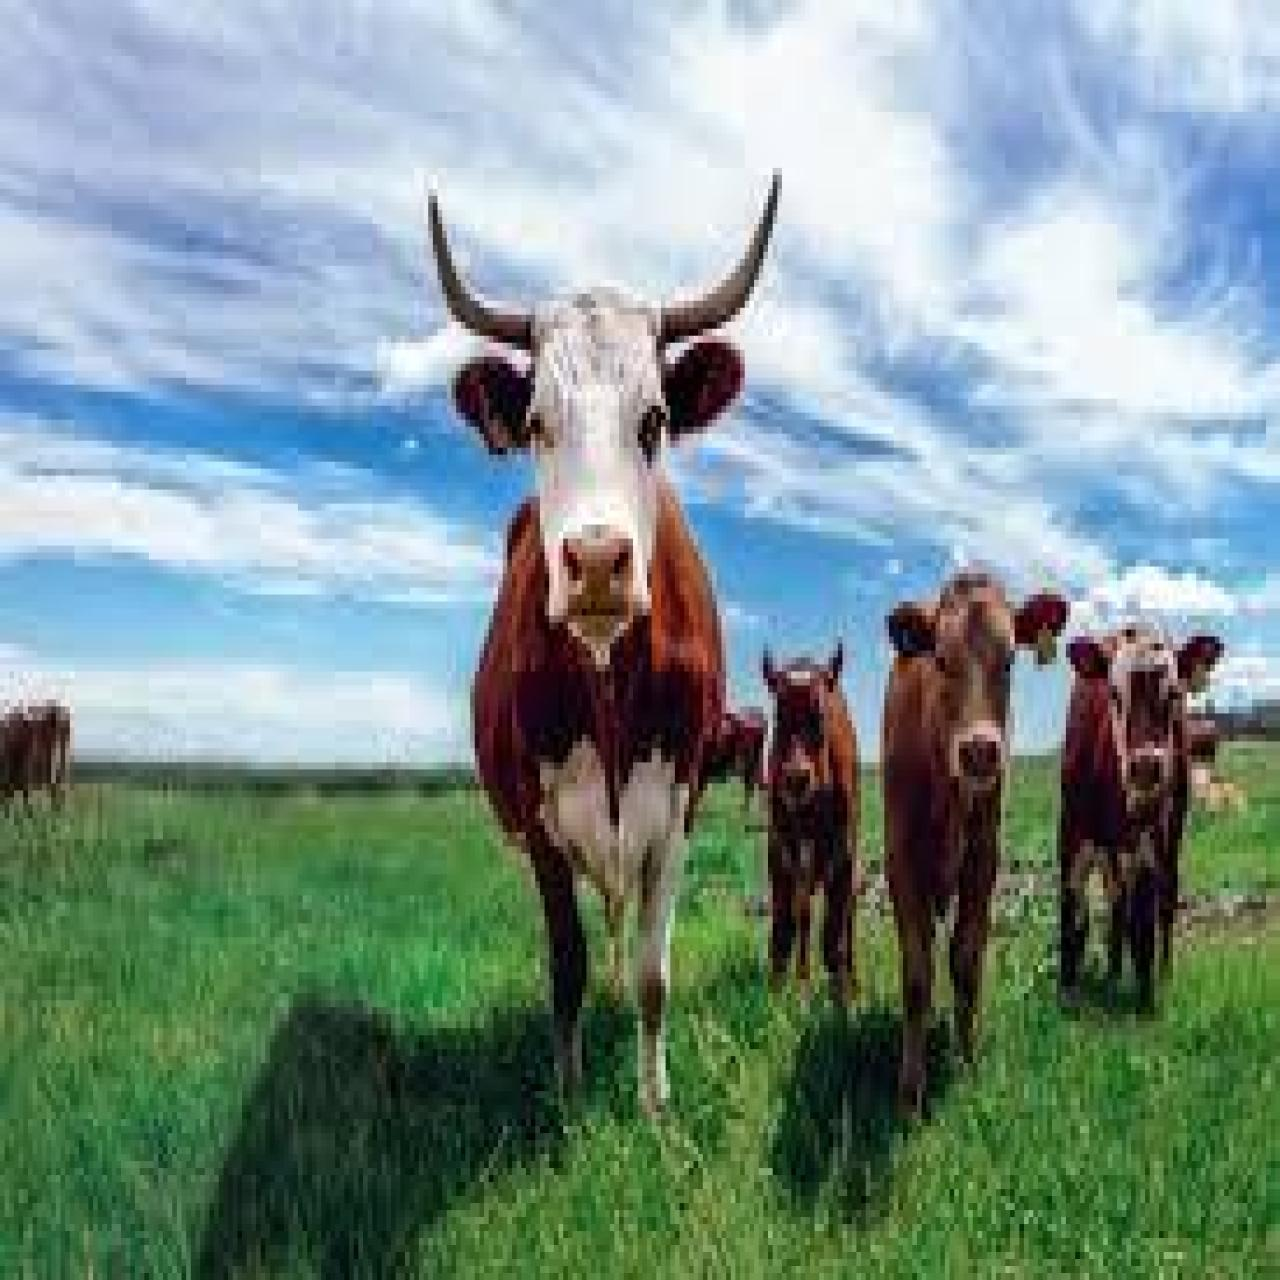cow: (424, 168, 782, 1148), (880, 564, 1065, 1130), (1058, 619, 1223, 1032), (761, 636, 863, 1007), (687, 700, 770, 825), (0, 693, 70, 825)
